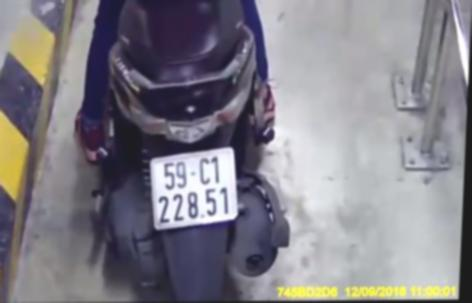License_Plate: (139, 142, 253, 232)
